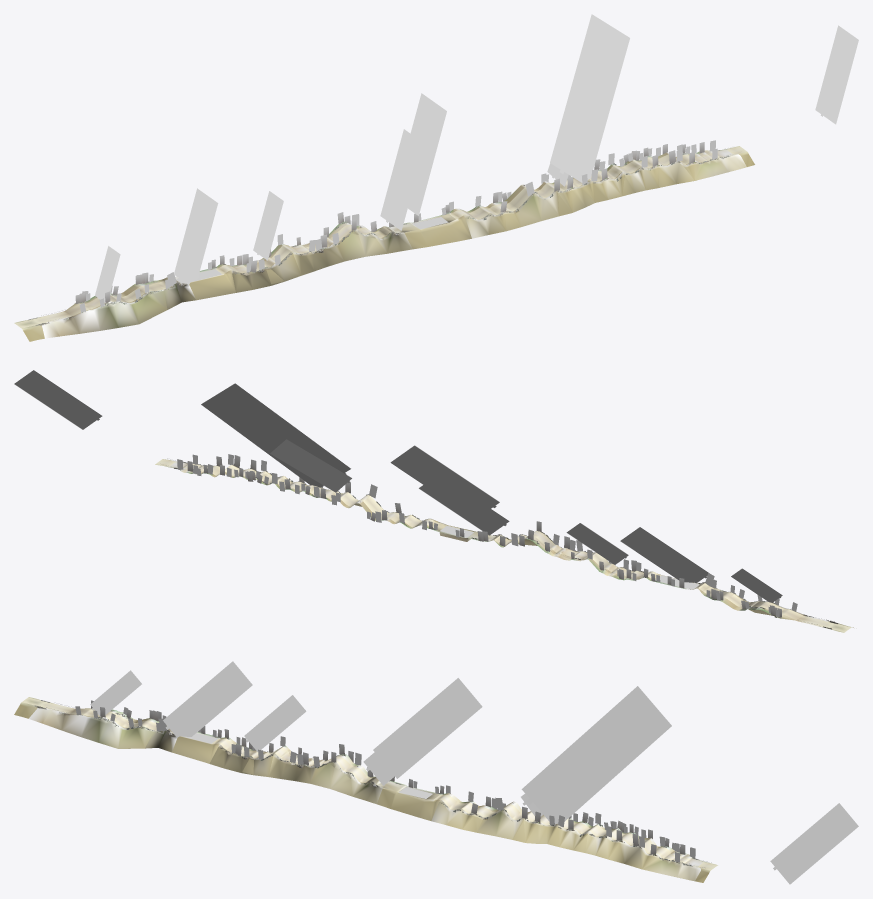
Rendered from Beach_09.fbx.
3 renders of one model, top to bottom at view 1: azimuth 30°, elevation 25°; view 2: azimuth 150°, elevation 25°; view 3: azimuth 330°, elevation 25°, orthographic. The views are drawn at different scales.
Visible parts, largest first — view 1: Light_01, Mountain_01, Tree_01, Road_01, Ground_01; view 2: Light_01, Tree_01, Ground_01, Road_01; view 3: Light_01, Mountain_01, Tree_01, Road_01, Ground_01.
Boxes of the visible parts, <box> form: Light_01: <box>95,14,858,302</box>; Mountain_01: <box>42,154,746,338</box>; Tree_01: <box>40,140,730,325</box>; Road_01: <box>14,146,754,341</box>; Ground_01: <box>15,146,746,328</box>; Light_01: <box>14,370,782,602</box>; Tree_01: <box>174,454,836,622</box>; Ground_01: <box>156,459,850,632</box>; Road_01: <box>155,459,853,632</box>; Light_01: <box>90,661,858,884</box>; Mountain_01: <box>28,708,700,881</box>; Tree_01: <box>36,700,698,866</box>; Road_01: <box>14,697,717,882</box>; Ground_01: <box>22,697,716,870</box>.
Bounding box in the file's own units: 84691 × 14500 × 8475.
